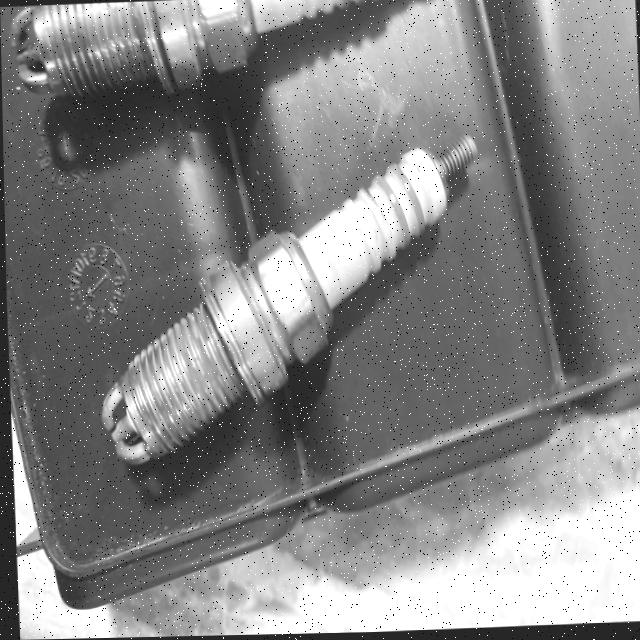spark-plug: (83, 105, 488, 494)
